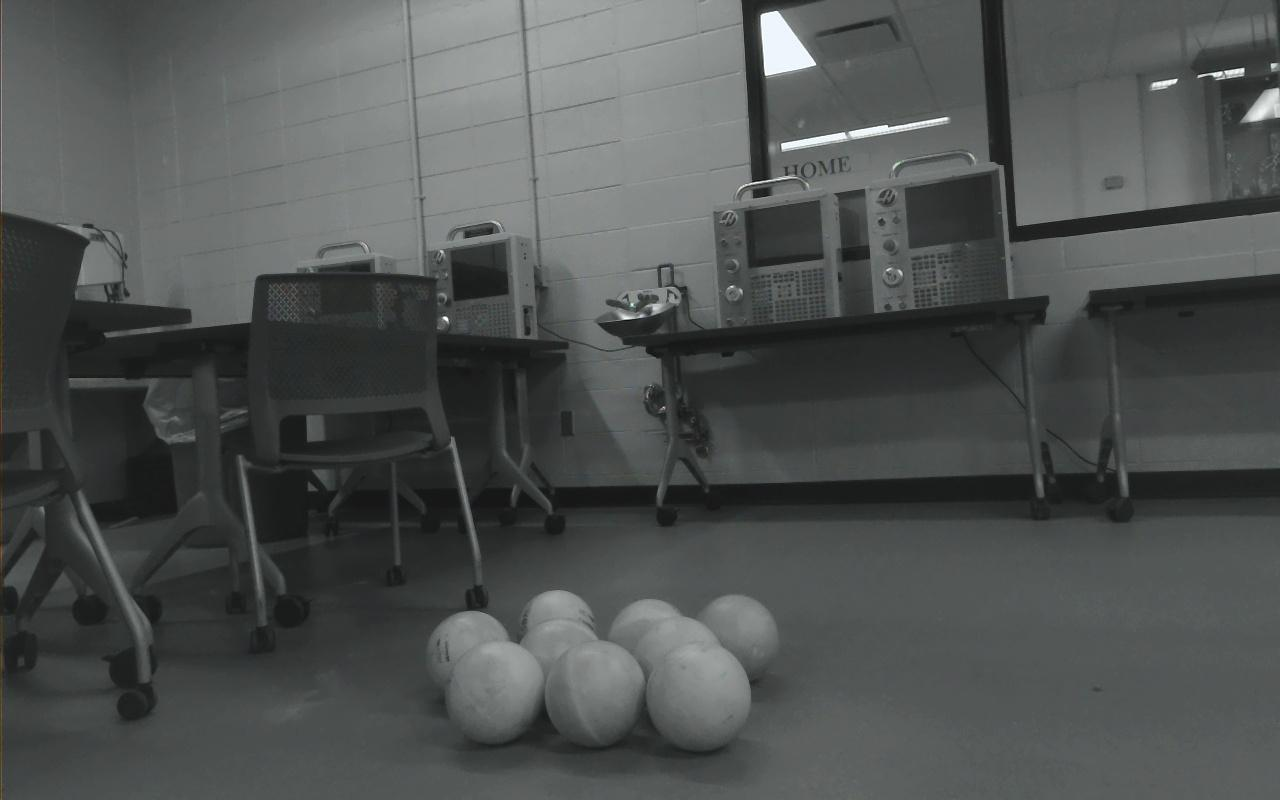Fuel: (645, 642, 751, 751), (544, 639, 645, 747), (444, 639, 544, 746), (426, 610, 512, 700), (631, 616, 721, 700), (518, 618, 600, 709), (695, 594, 778, 682), (607, 598, 685, 670), (516, 589, 598, 649)
